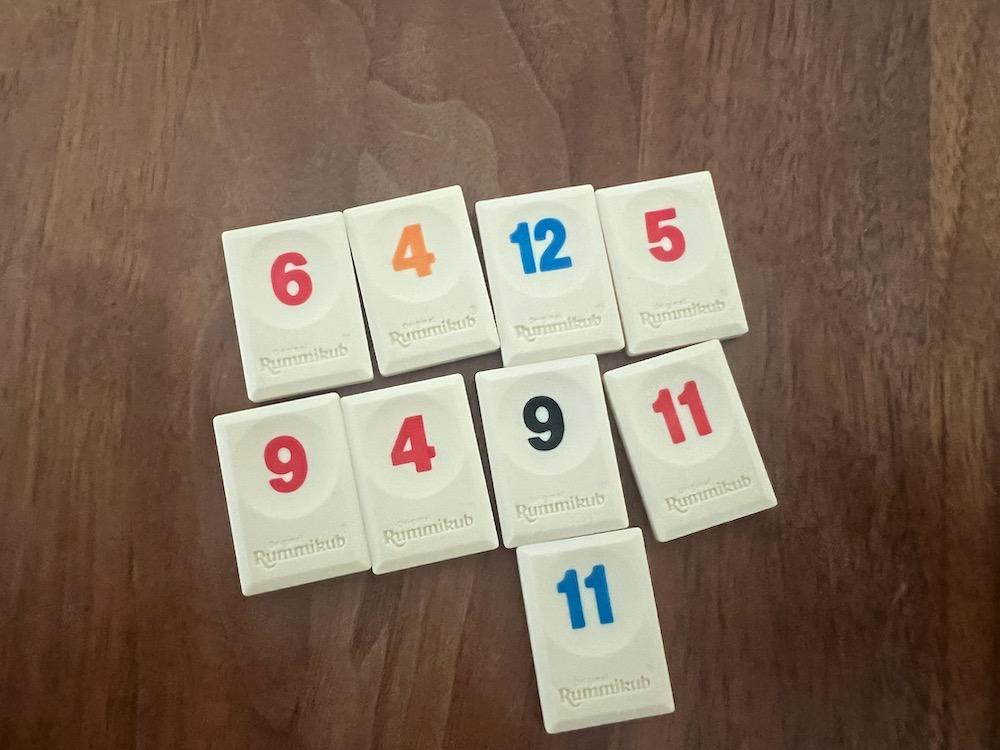black_9: (477, 356, 627, 549)
blue_11: (516, 527, 674, 732)
blue_12: (477, 186, 625, 365)
orange_4: (345, 186, 498, 375)
red_11: (604, 340, 777, 541)
red_4: (343, 375, 498, 574)
red_5: (598, 172, 746, 355)
red_6: (224, 213, 373, 402)
red_9: (213, 393, 371, 596)
